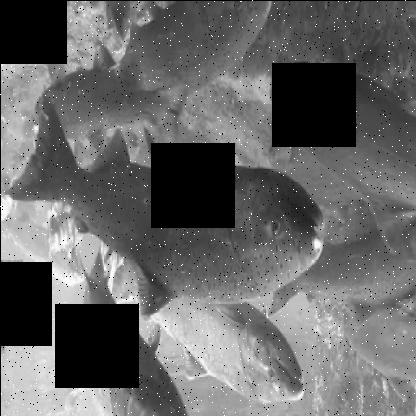fish: (10, 96, 322, 320), (102, 240, 302, 404), (81, 240, 190, 415), (32, 46, 184, 158)
